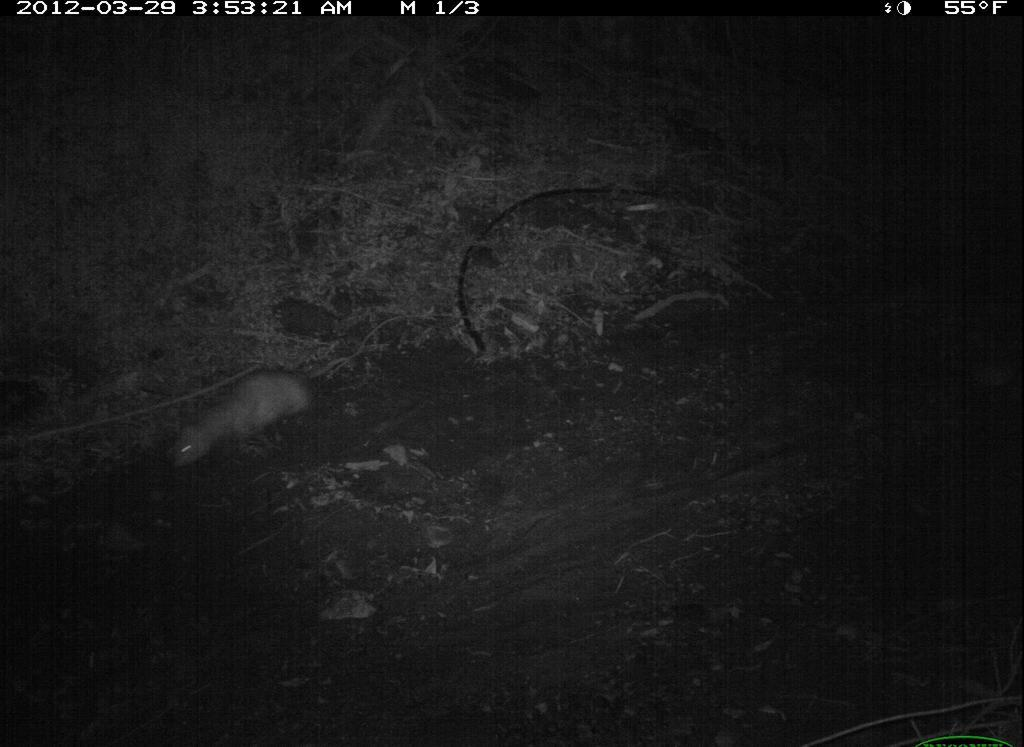opossum: (161, 353, 353, 471)
